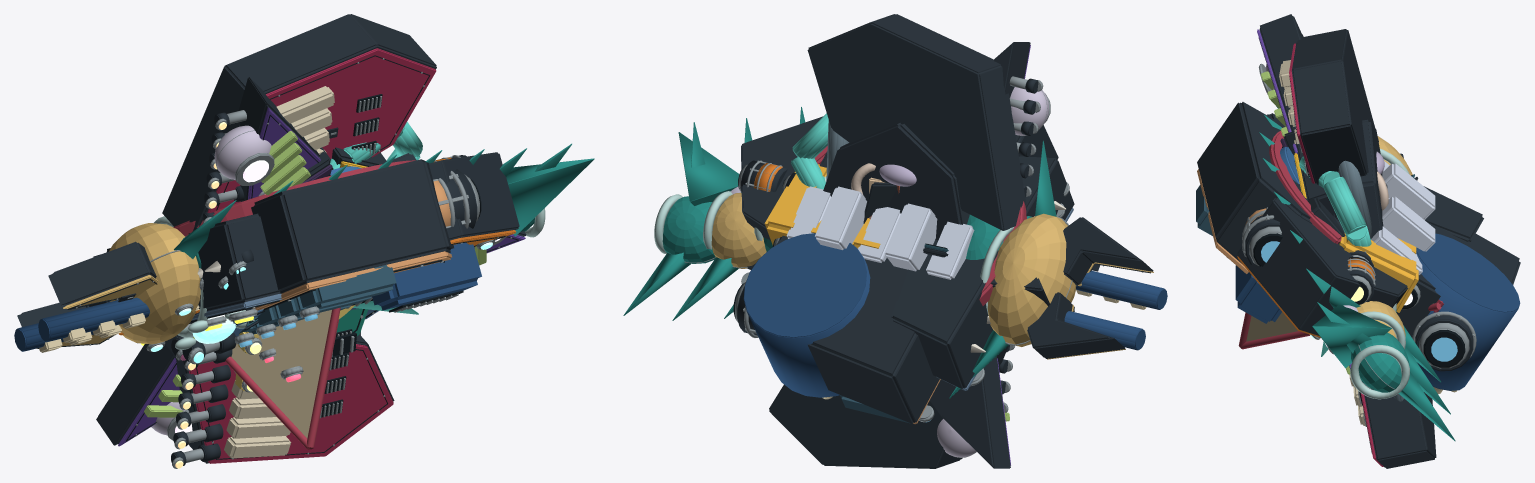
The model's file is voltaris-fleet.glb.
3 renders of one model, left to right at view 1: azimuth 30°, elevation 25°; view 2: azimuth 150°, elevation 25°; view 3: azimuth 270°, elevation 25°, orthographic. The views are drawn at different scales.
Parts seen in each view (by area): view 1: enemy_11__recess / carbon titanium, boss_gatekeeper__recess / carbon titanium, boss_gatekeeper__GATEKEEPER / primary paint, boss_nereid__NEREID / contrasting armour, boss_ares__ARES / contrasting armour, enemy_31__OBELISK / primary paint, boss_gatekeeper__GATEKEEPER / contrasting armour, enemy_27__recess / carbon titanium, boss_nereid__NEREID / primary paint, boss_jove__recess / carbon titanium, boss_nereid__recess / carbon titanium, boss_ares__recess / carbon titanium (+15 smaller); view 2: boss_gatekeeper__recess / carbon titanium, boss_ares__ARES / contrasting armour, enemy_11__recess / carbon titanium, boss_nereid__NEREID / contrasting armour, boss_nereid__NEREID / primary paint, enemy_27__recess / carbon titanium, enemy_41__CALVING / contrasting armour, enemy_03__recess / carbon titanium, boss_nereid__recess / carbon titanium, boss_jove__recess / carbon titanium, boss_ares__recess / carbon titanium, boss_jove__JOVE / service trim (+7 smaller); view 3: boss_gatekeeper__recess / carbon titanium, enemy_11__recess / carbon titanium, boss_ares__ARES / contrasting armour, boss_ares__recess / carbon titanium, boss_nereid__NEREID / primary paint, enemy_41__CALVING / contrasting armour, enemy_31__OBELISK / contrasting armour, boss_nereid__NEREID / service trim, enemy_18__SCOURGE / contrasting armour, boss_jove__recess / carbon titanium, enemy_11__machined / titanium, enemy_27__ANVIL / contrasting armour (+18 smaller).
Boxes of the visible parts, x1,y1,x2,y2 form: enemy_11__recess / carbon titanium: (251,159,477,293); boss_gatekeeper__recess / carbon titanium: (162,14,436,465); boss_gatekeeper__GATEKEEPER / primary paint: (188,48,436,463); boss_nereid__NEREID / contrasting armour: (36,223,200,348); boss_ares__ARES / contrasting armour: (14,242,481,351); enemy_31__OBELISK / primary paint: (231,310,331,438); boss_gatekeeper__GATEKEEPER / contrasting armour: (224,86,334,458); enemy_27__recess / carbon titanium: (104,213,280,313); boss_nereid__NEREID / primary paint: (174,143,594,278); boss_jove__recess / carbon titanium: (96,77,526,445); boss_nereid__recess / carbon titanium: (17,241,156,335); boss_ares__recess / carbon titanium: (93,152,519,305); boss_gatekeeper__recess / carbon titanium: (769,14,1038,468); boss_ares__ARES / contrasting armour: (743,233,1167,397); enemy_11__recess / carbon titanium: (737,125,1058,423); boss_nereid__NEREID / contrasting armour: (711,192,1153,359); boss_nereid__NEREID / primary paint: (623,107,1056,398); enemy_27__recess / carbon titanium: (891,156,1074,388); enemy_41__CALVING / contrasting armour: (786,186,974,279); enemy_03__recess / carbon titanium: (823,123,969,240); boss_nereid__recess / carbon titanium: (1027,217,1153,358); boss_jove__recess / carbon titanium: (747,42,1030,468); boss_ares__recess / carbon titanium: (740,116,1050,306); boss_jove__JOVE / service trim: (731,87,1048,457); boss_gatekeeper__recess / carbon titanium: (1291,29,1436,468); enemy_11__recess / carbon titanium: (1197,102,1520,371); boss_ares__ARES / contrasting armour: (1235,233,1520,390); boss_ares__recess / carbon titanium: (1237,153,1408,335); boss_nereid__NEREID / primary paint: (1259,106,1455,441); enemy_41__CALVING / contrasting armour: (1370,161,1435,274); enemy_31__OBELISK / contrasting armour: (1238,131,1443,349); boss_nereid__NEREID / service trim: (1350,148,1409,399); enemy_18__SCOURGE / contrasting armour: (1299,156,1371,246); boss_jove__recess / carbon titanium: (1259,14,1363,382); enemy_11__machined / titanium: (1227,207,1476,368); enemy_27__ANVIL / contrasting armour: (1339,233,1418,312).
Bounding box in the file's own units: 8 × 6.5 × 4.68.
